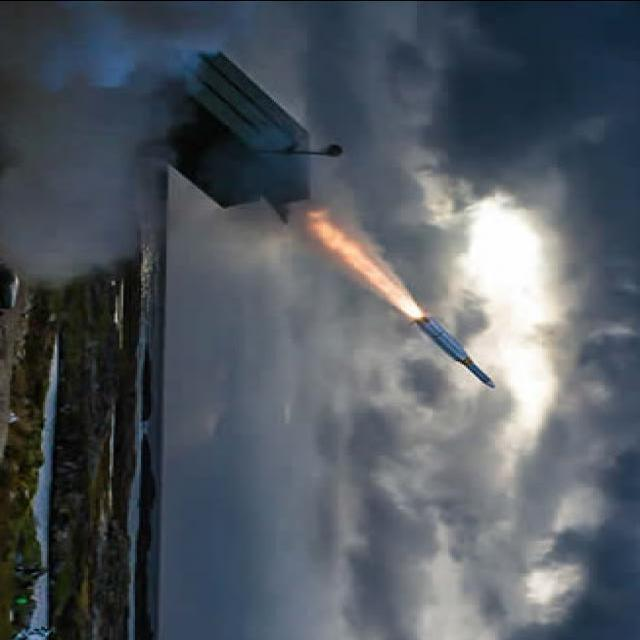missile: (405, 320, 496, 392)
